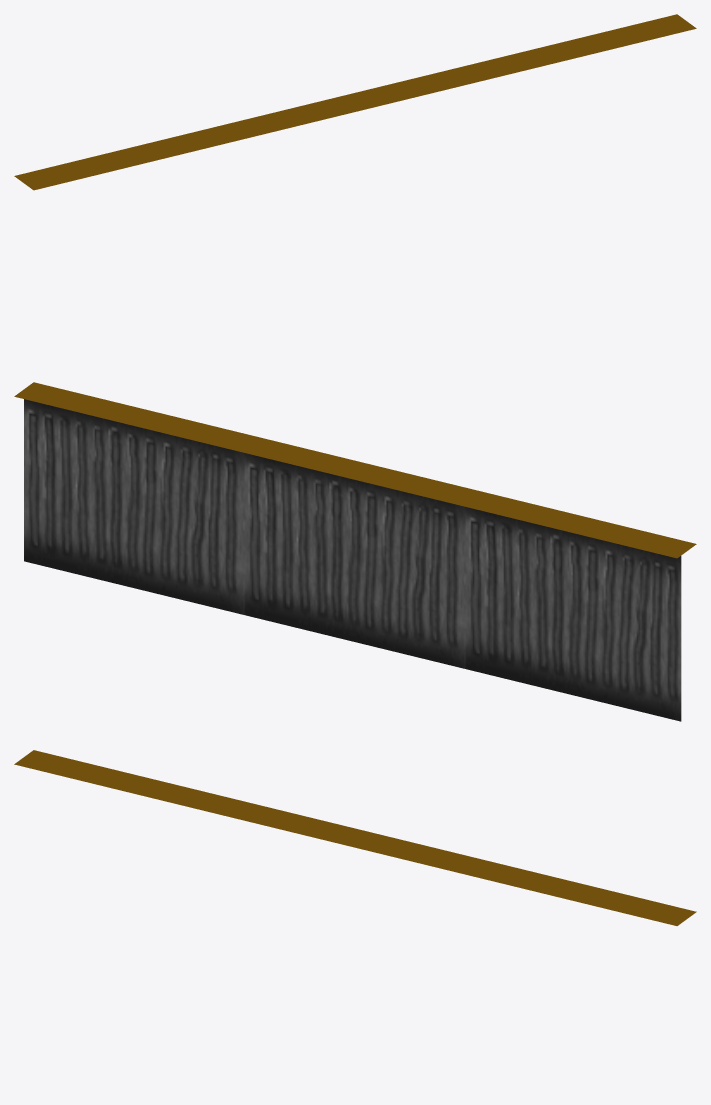
The model's file is Geländer2_Hoch [Wellblech]_1629.glb.
3 views of the same model, one above another, from view 1: azimuth 30°, elevation 25°; view 2: azimuth 150°, elevation 25°; view 3: azimuth 330°, elevation 25° (orthographic).
Parts seen in each view (by area): view 1: pPlaneShape224; view 2: pPlaneShape223, pPlaneShape224; view 3: pPlaneShape224.
Boxes of the visible parts, bbox=[...] form: pPlaneShape224: bbox=[14, 14, 696, 190]; pPlaneShape223: bbox=[24, 399, 681, 721]; pPlaneShape224: bbox=[14, 382, 696, 558]; pPlaneShape224: bbox=[14, 750, 696, 925].
Size of the model in its own units: 0.4724 by 0.117 by 0.0243.
2 materials, 1 textured.
